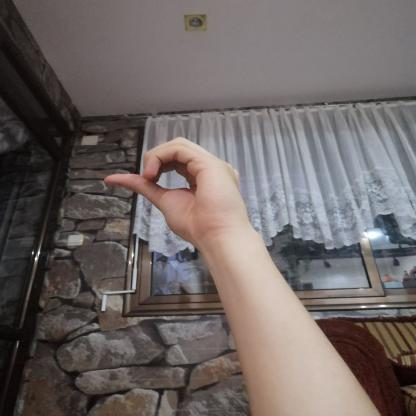WAW: (92, 127, 262, 255)
